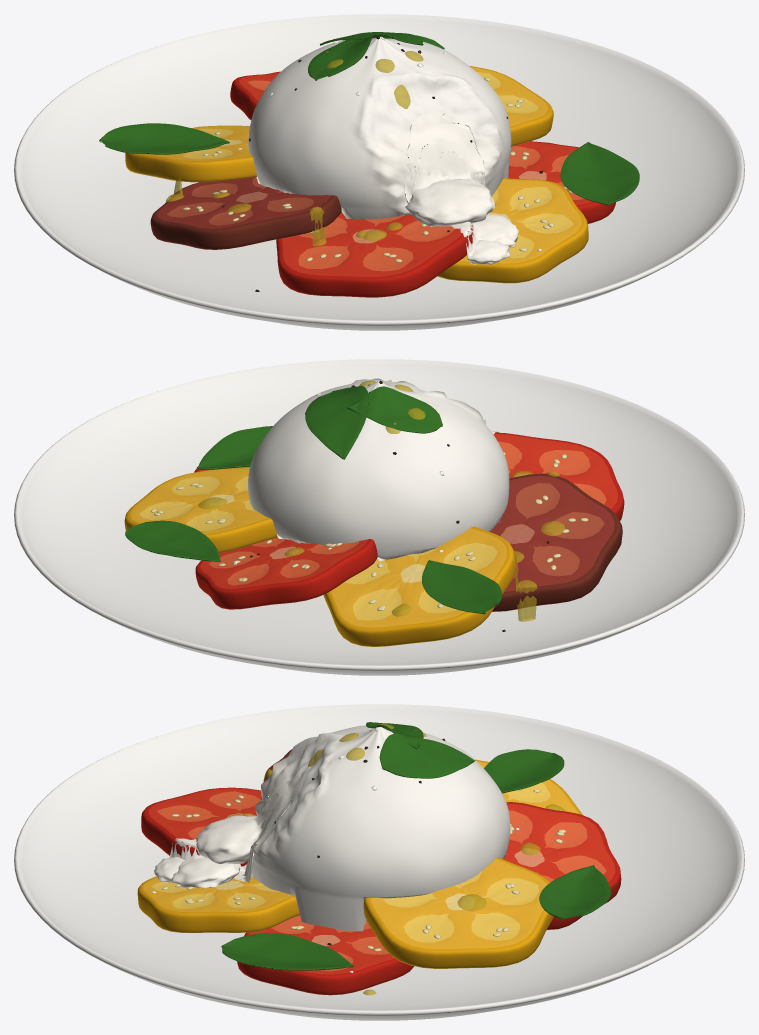
File: burrata-tomates.glb
3 views of the same model, one above another, from view 1: azimuth 30°, elevation 25°; view 2: azimuth 150°, elevation 25°; view 3: azimuth 270°, elevation 25° (orthographic).
Visible parts, largest first — view 1: porcelaine_blanche, burrata_peau, stracciatella, basilic, tomate_jaune_peau, tomate_rouge_chair, tomate_jaune_chair, tomate_rouge_peau, tomate_rouge_loges, tomate_noire_peau, tomate_noire_chair, tomate_jaune_loges (+4 smaller); view 2: porcelaine_blanche, burrata_peau, basilic, tomate_jaune_chair, tomate_rouge_chair, tomate_noire_chair, tomate_jaune_peau, tomate_jaune_loges, tomate_rouge_peau, tomate_rouge_loges, tomate_noire_loges, tomate_noire_peau (+3 smaller); view 3: porcelaine_blanche, burrata_peau, basilic, tomate_jaune_chair, stracciatella, tomate_jaune_peau, tomate_rouge_chair, tomate_jaune_loges, tomate_rouge_peau, tomate_rouge_loges, huile_olive, tomate_pepins (+2 smaller).
Boxes of the visible parts, x1,y1,x2,y2 form: porcelaine_blanche: (14, 14, 744, 330); burrata_peau: (248, 36, 511, 218); stracciatella: (365, 112, 519, 264); basilic: (99, 32, 639, 205); tomate_jaune_peau: (125, 66, 588, 282); tomate_rouge_chair: (231, 72, 612, 297); tomate_jaune_chair: (127, 67, 584, 283); tomate_rouge_peau: (230, 71, 615, 296); tomate_rouge_loges: (248, 80, 584, 271); tomate_noire_peau: (150, 182, 341, 248); tomate_noire_chair: (156, 177, 341, 249); tomate_jaune_loges: (183, 72, 573, 258); porcelaine_blanche: (14, 359, 744, 675); burrata_peau: (248, 378, 509, 561); basilic: (125, 385, 502, 614); tomate_jaune_chair: (130, 468, 511, 646); tomate_rouge_chair: (199, 434, 618, 609); tomate_noire_chair: (490, 475, 614, 611); tomate_jaune_peau: (124, 467, 516, 646); tomate_jaune_loges: (139, 476, 497, 620); tomate_rouge_peau: (194, 432, 624, 608); tomate_rouge_loges: (209, 441, 606, 585); tomate_noire_loges: (498, 483, 604, 579); tomate_noire_peau: (492, 473, 622, 611); porcelaine_blanche: (14, 704, 744, 1020); burrata_peau: (277, 725, 510, 931); basilic: (221, 722, 611, 970); tomate_jaune_chair: (142, 761, 578, 968); stracciatella: (154, 763, 300, 890); tomate_jaune_peau: (137, 759, 583, 968); tomate_rouge_chair: (143, 788, 615, 995); tomate_jaune_loges: (151, 782, 550, 942); tomate_rouge_peau: (141, 787, 621, 994); tomate_rouge_loges: (157, 791, 606, 971); huile_olive: (227, 724, 565, 995); tomate_pepins: (162, 789, 596, 951).
Size of the model in its own units: 0.26 by 0.0757 by 0.26.
